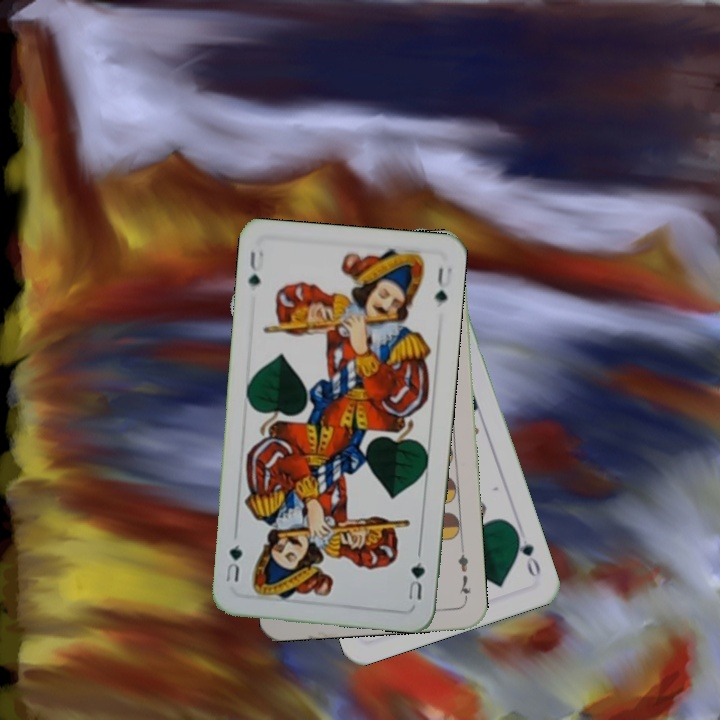E7: (454, 545, 474, 603)
GO: (511, 525, 543, 581)
GU: (404, 557, 428, 602), (244, 247, 267, 289)
